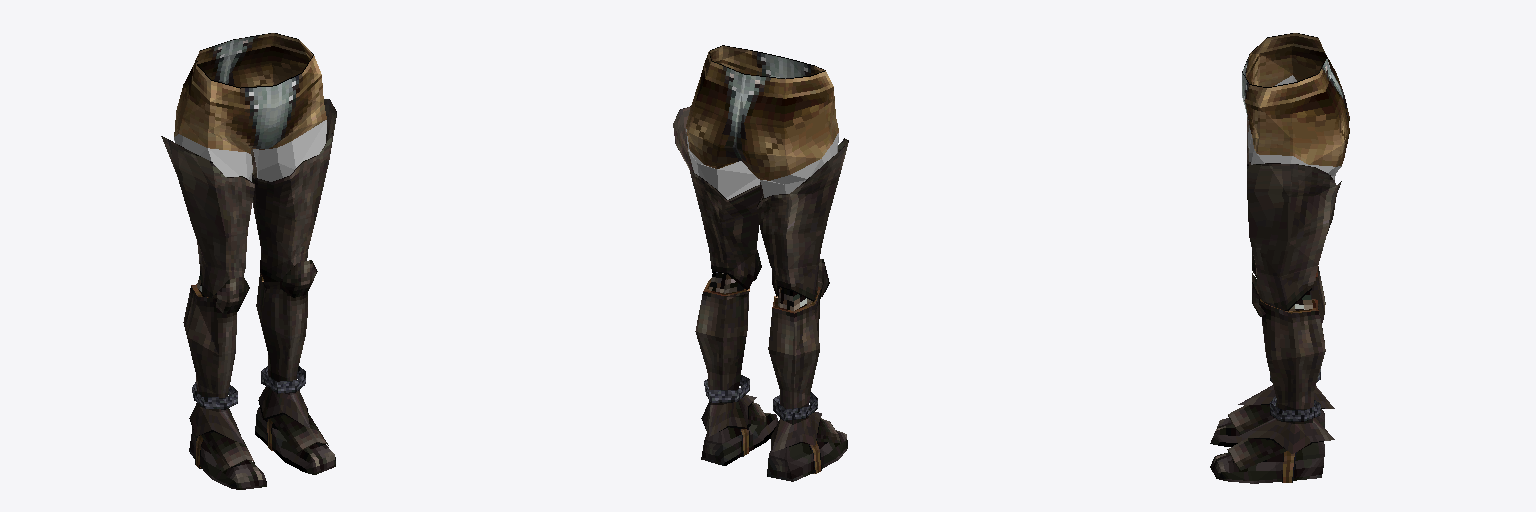
3 renders of one model, left to right at view 1: azimuth 30°, elevation 25°; view 2: azimuth 150°, elevation 25°; view 3: azimuth 270°, elevation 25°, orthographic.
Visible parts, largest first — view 1: mesh00; view 2: mesh00; view 3: mesh00.
Part boxes in pixels (x1,y1,x2,y2): mesh00: (161, 33, 336, 489); mesh00: (673, 45, 848, 481); mesh00: (1210, 33, 1349, 483).
Size of the model in its own units: 46.77 by 110 by 34.99.
Materials: 2 (1 with a texture image).